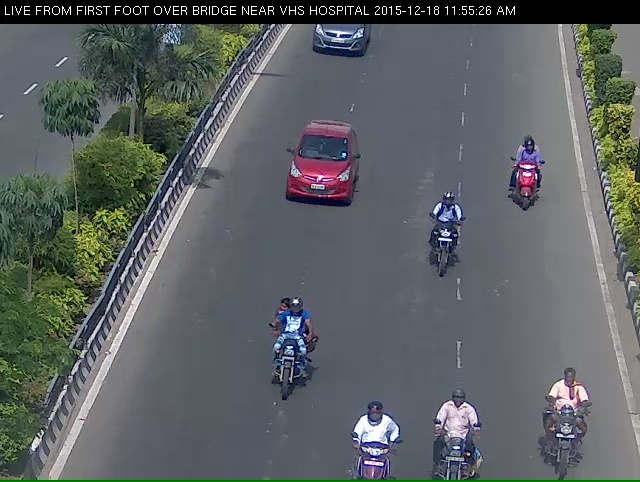Car: (271, 116, 358, 235), (302, 20, 380, 71)
Person: (257, 309, 327, 431), (535, 370, 587, 479), (499, 142, 553, 236), (426, 197, 465, 293), (429, 411, 484, 478), (352, 428, 403, 478)
